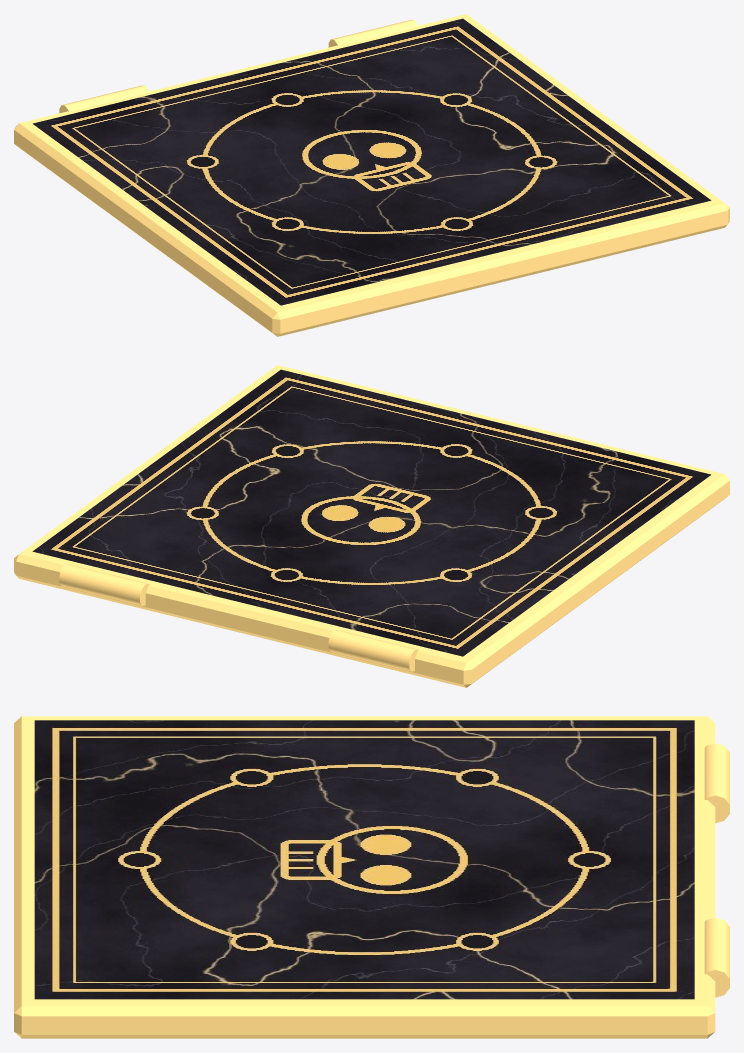
Rendered from lb5_trapdoor.glb.
The picture shows the model from 3 angles, top to bottom: view 1: azimuth 30°, elevation 25°; view 2: azimuth 150°, elevation 25°; view 3: azimuth 270°, elevation 25°; orthographic projection. The views are drawn at different scales.
Visible parts, largest first — view 1: lb5_trapdoor; view 2: lb5_trapdoor; view 3: lb5_trapdoor.
Part boxes in pixels (left/top/right/bottom): lb5_trapdoor: left=14, top=14, right=729, bottom=336; lb5_trapdoor: left=14, top=365, right=729, bottom=687; lb5_trapdoor: left=14, top=716, right=729, bottom=1038.
Size of the model in its own units: 1.36 by 0.08 by 1.39.
2 materials, 1 textured.
